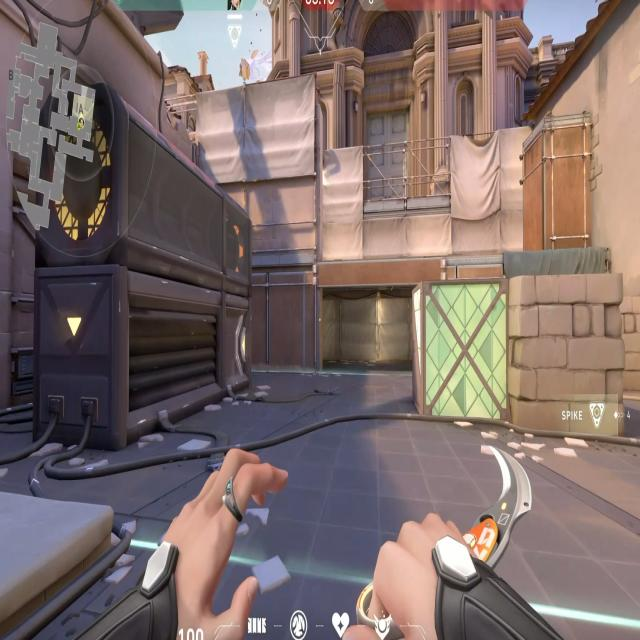A_Heaven_Box: (513, 109, 604, 251)
A_Heaven_Wall: (167, 66, 333, 245)
A_Hell: (306, 249, 436, 389)
A_Site_Box: (406, 265, 640, 449)
